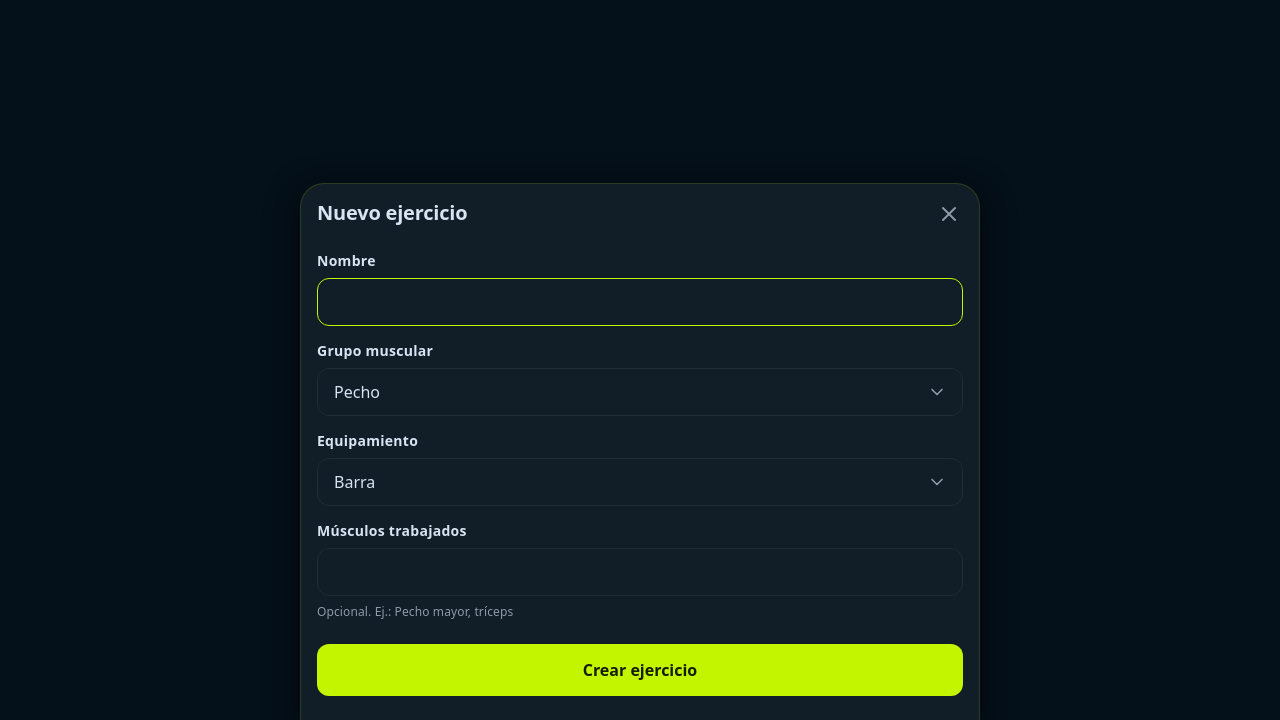
Test: ExerciseSheet: crear › no guarda con el nombre vacío y muestra el mensaje en el campo
The width and height of the screenshot is (1280, 720).
expect the text "Escribe un nombre." is not shown: met
Click the button "Crear ejercicio" at [640, 670], box [317, 644, 963, 696]
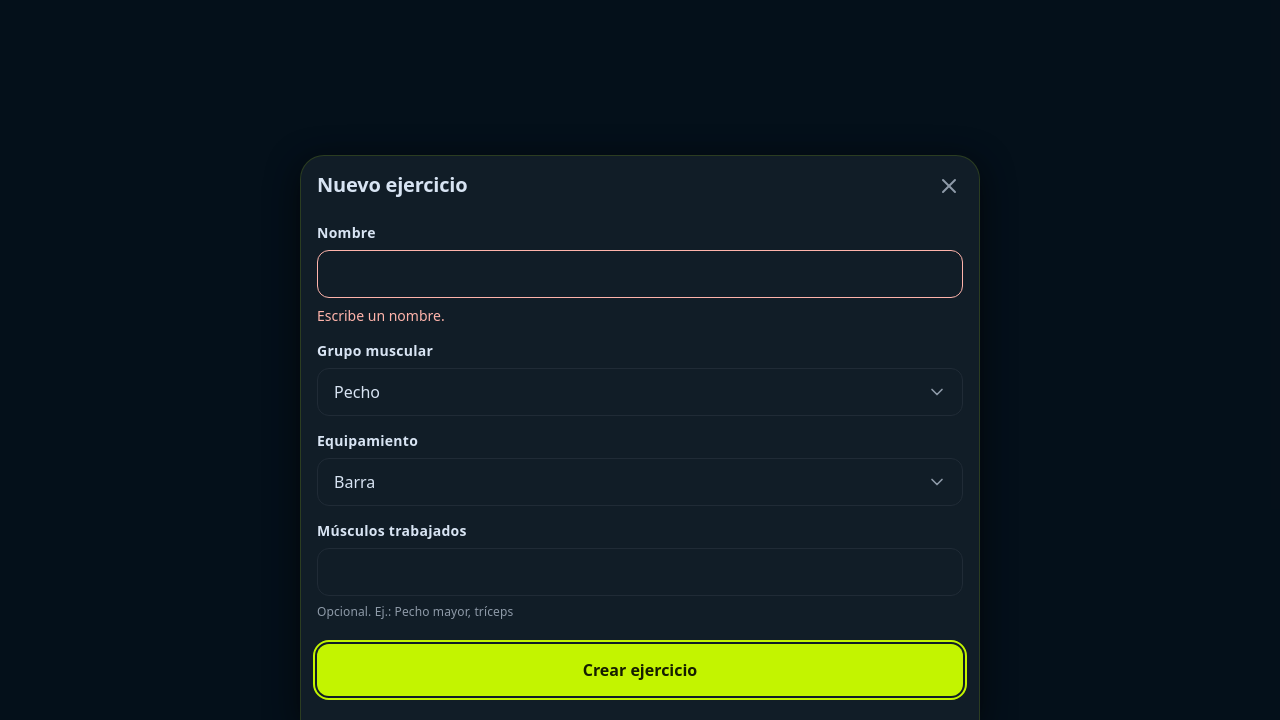
expect the text "Escribe un nombre." is shown: met, box [317, 306, 445, 325]
